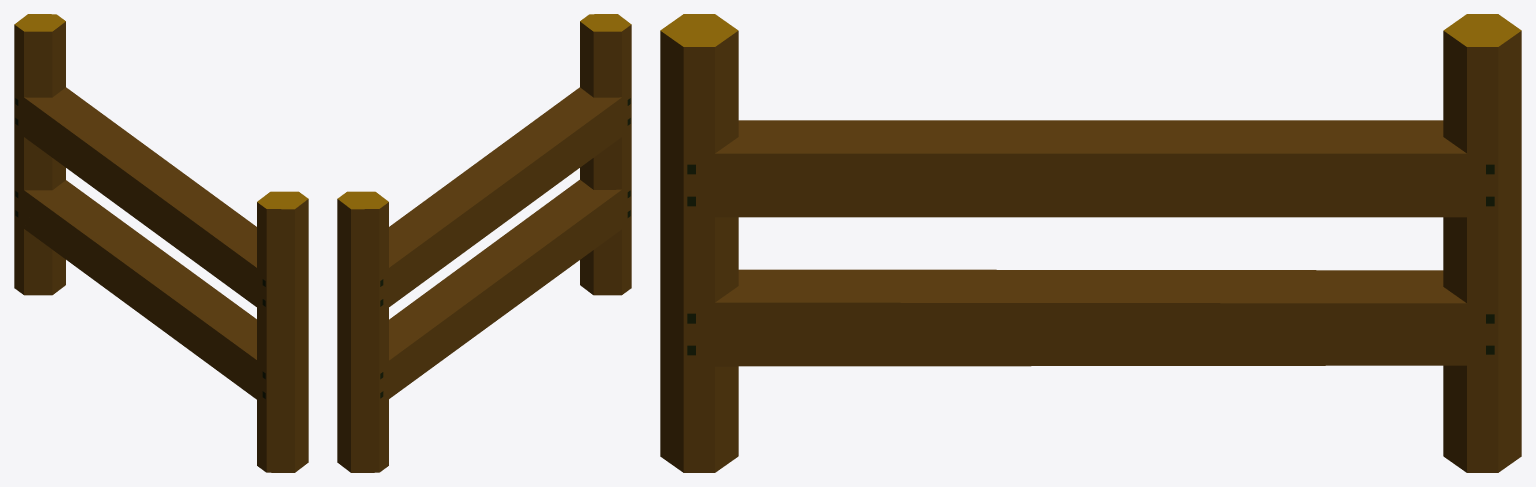
The model's file is Fence.fbx.
3 renders of one model, left to right at view 1: azimuth 30°, elevation 25°; view 2: azimuth 150°, elevation 25°; view 3: azimuth 270°, elevation 25°, orthographic. The views are drawn at different scales.
Parts seen in each view (by area): view 1: Fence; view 2: Fence; view 3: Fence.
Part boxes in pixels (left/top/right/bottom): Fence: left=14, top=14, right=308, bottom=472; Fence: left=337, top=14, right=631, bottom=472; Fence: left=660, top=14, right=1521, bottom=472.
Bounding box in the file's own units: 1100 × 100 × 600.
